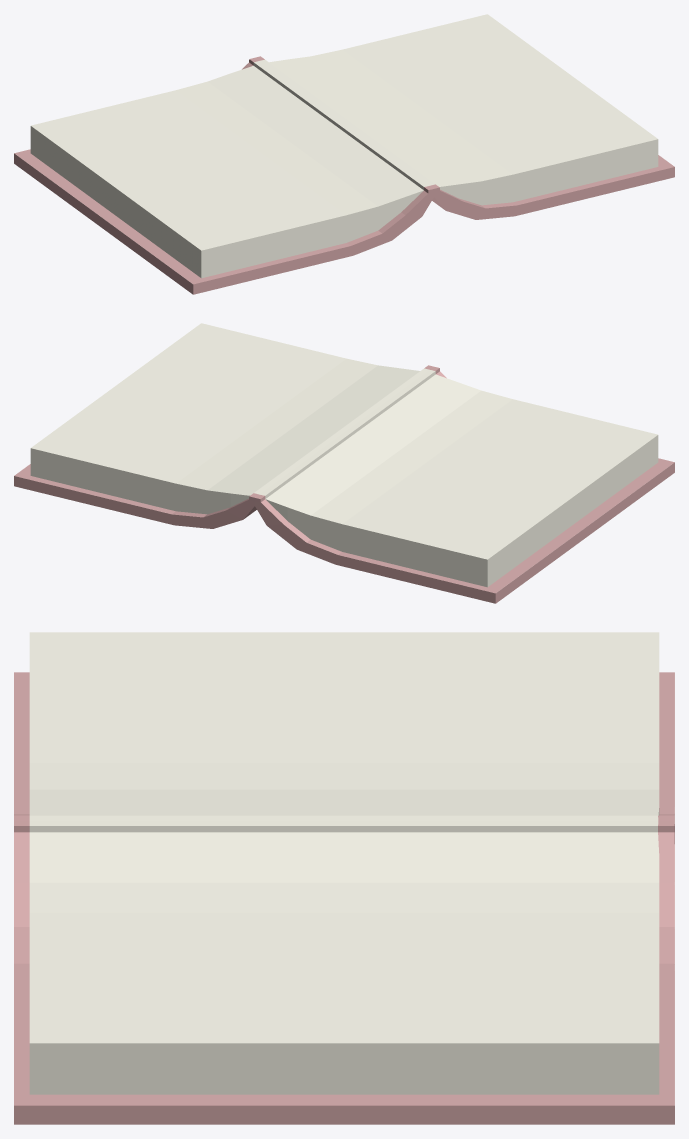
File: Livro Aberto.FBX
3 views of the same model, one above another, from view 1: azimuth 30°, elevation 25°; view 2: azimuth 150°, elevation 25°; view 3: azimuth 270°, elevation 25° (orthographic). The views are drawn at different scales.
Parts seen in each view (by area): view 1: OpenBook; view 2: OpenBook; view 3: OpenBook.
Part boxes in pixels (bbox=[...]): OpenBook: bbox=[14, 14, 674, 294]; OpenBook: bbox=[14, 323, 674, 603]; OpenBook: bbox=[14, 632, 674, 1124].
Bounding box in the file's own units: 259 × 24.29 × 167.
